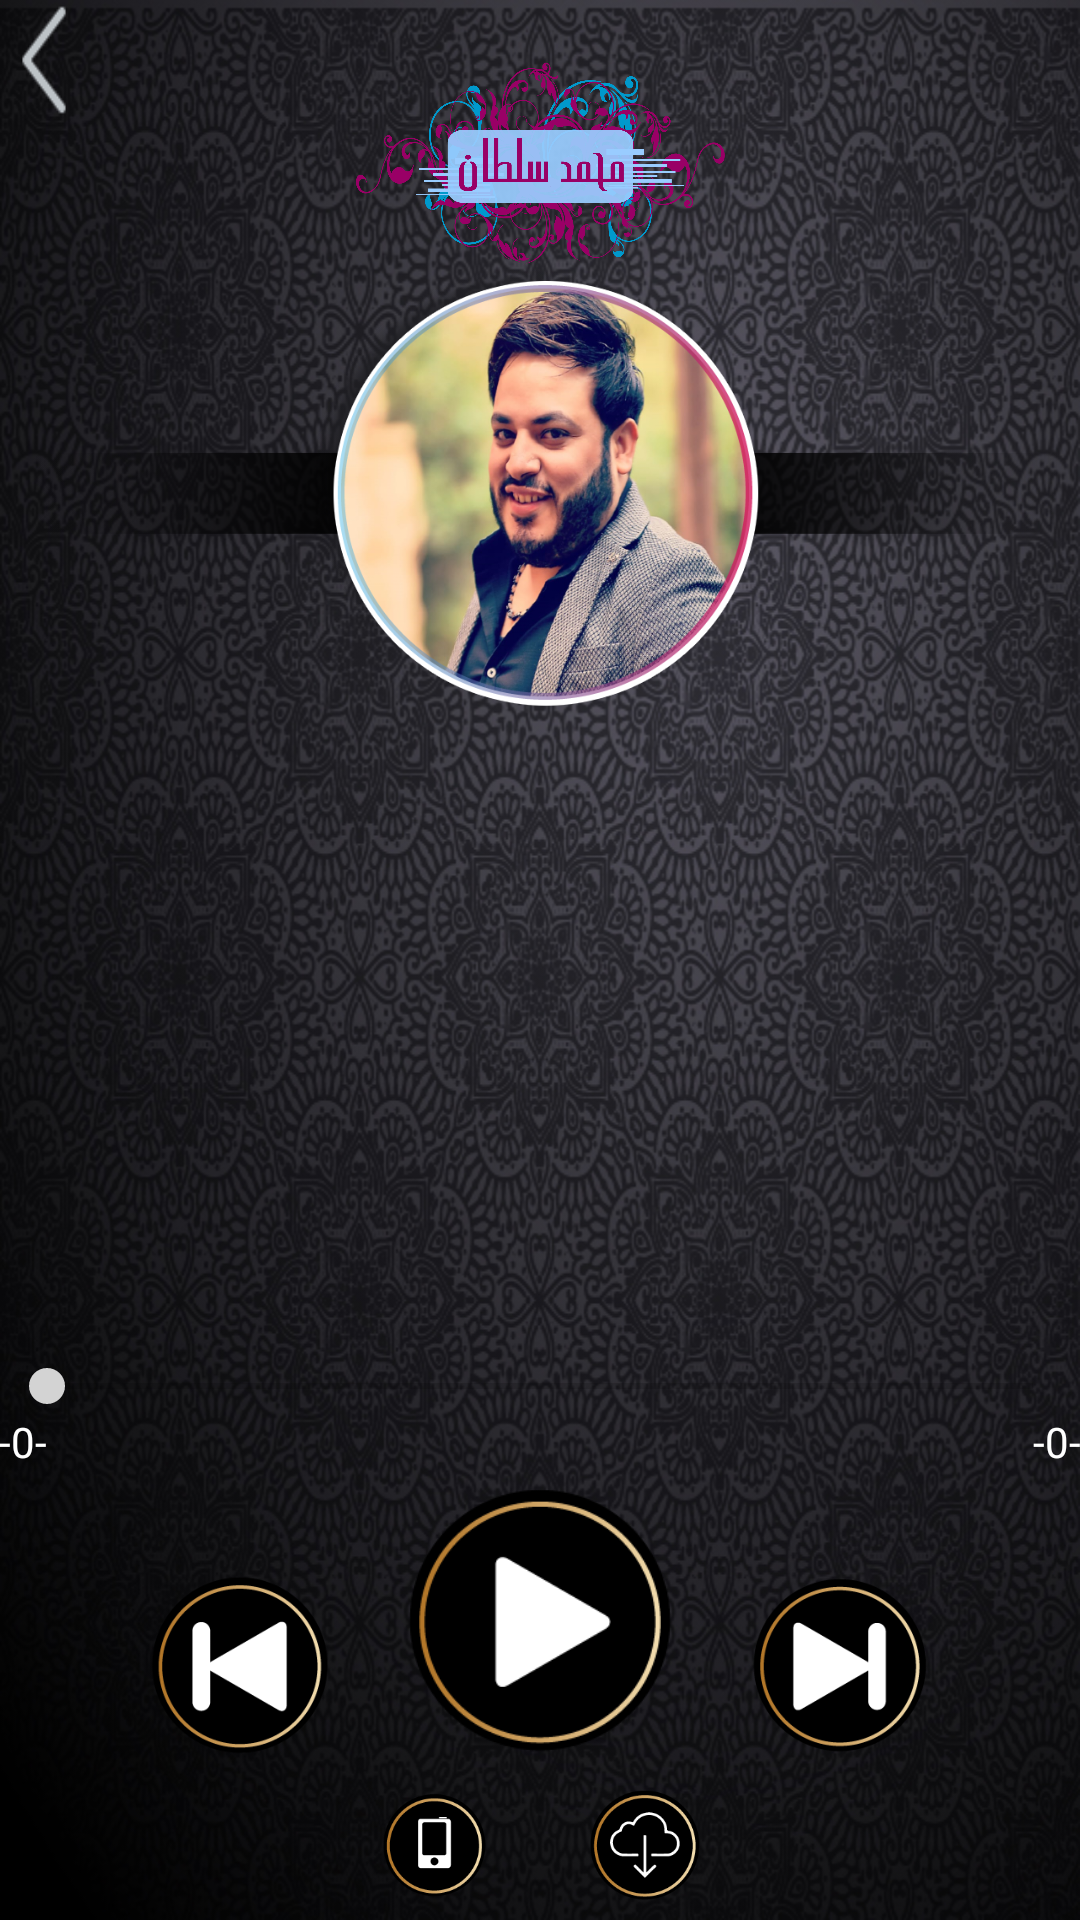

Icon bounding boxes for this 1080 × 1920 phone screenshot, format [x1,y1,x2,y2]:
download: [594,1795,696,1897]
